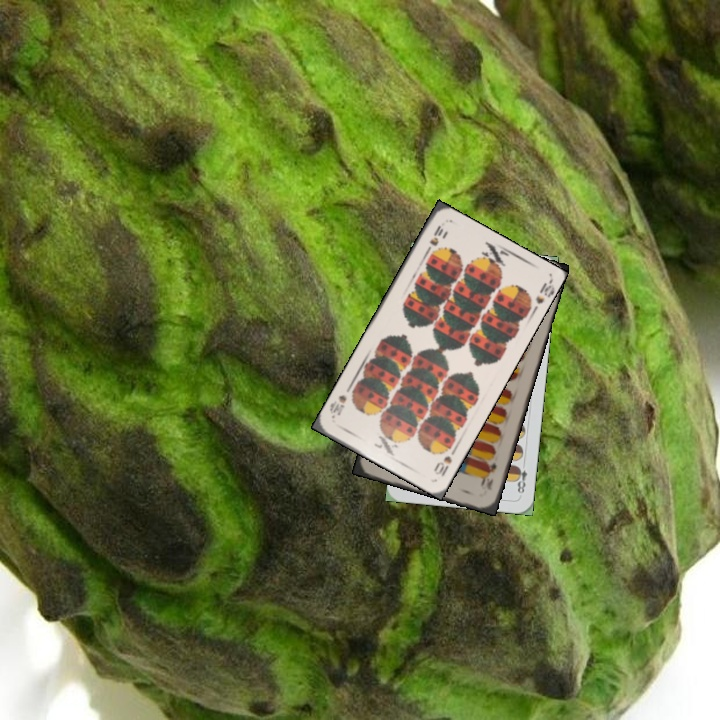E10: (478, 458, 499, 493)
E8: (511, 458, 530, 496)
S10: (430, 441, 460, 479), (421, 221, 446, 257)
